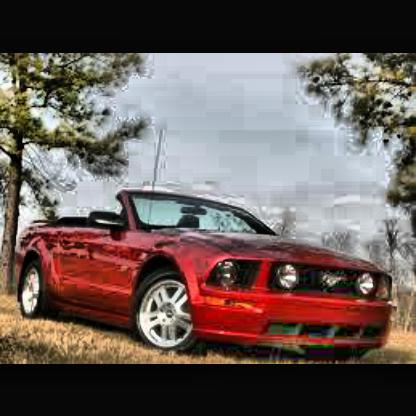Ford Mustang Convertible 2007: (12, 189, 402, 359)
